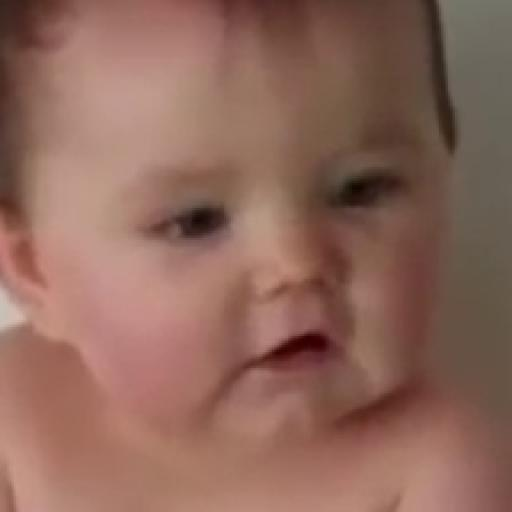Autism: (15, 20, 493, 469)
